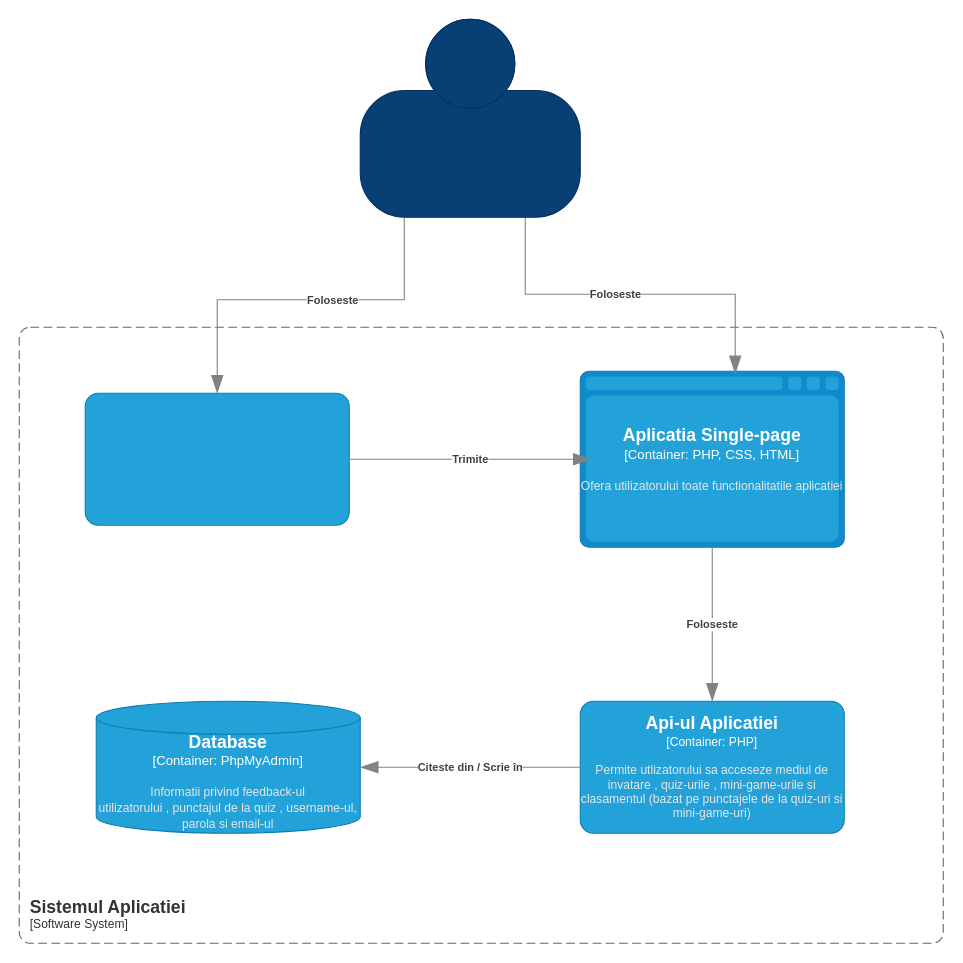
The diagram is 963 pixels wide and 963 high, and some of its shapes have lost their labels. Each missing label, with the box of its shape:
RoT [Container: PhP, CSS, HTML] Trimite content static si aplicatia single-page: (84, 392, 349, 525)
RoT User [Person] Persoana care foloseste aplicatia: (359, 18, 580, 217)
